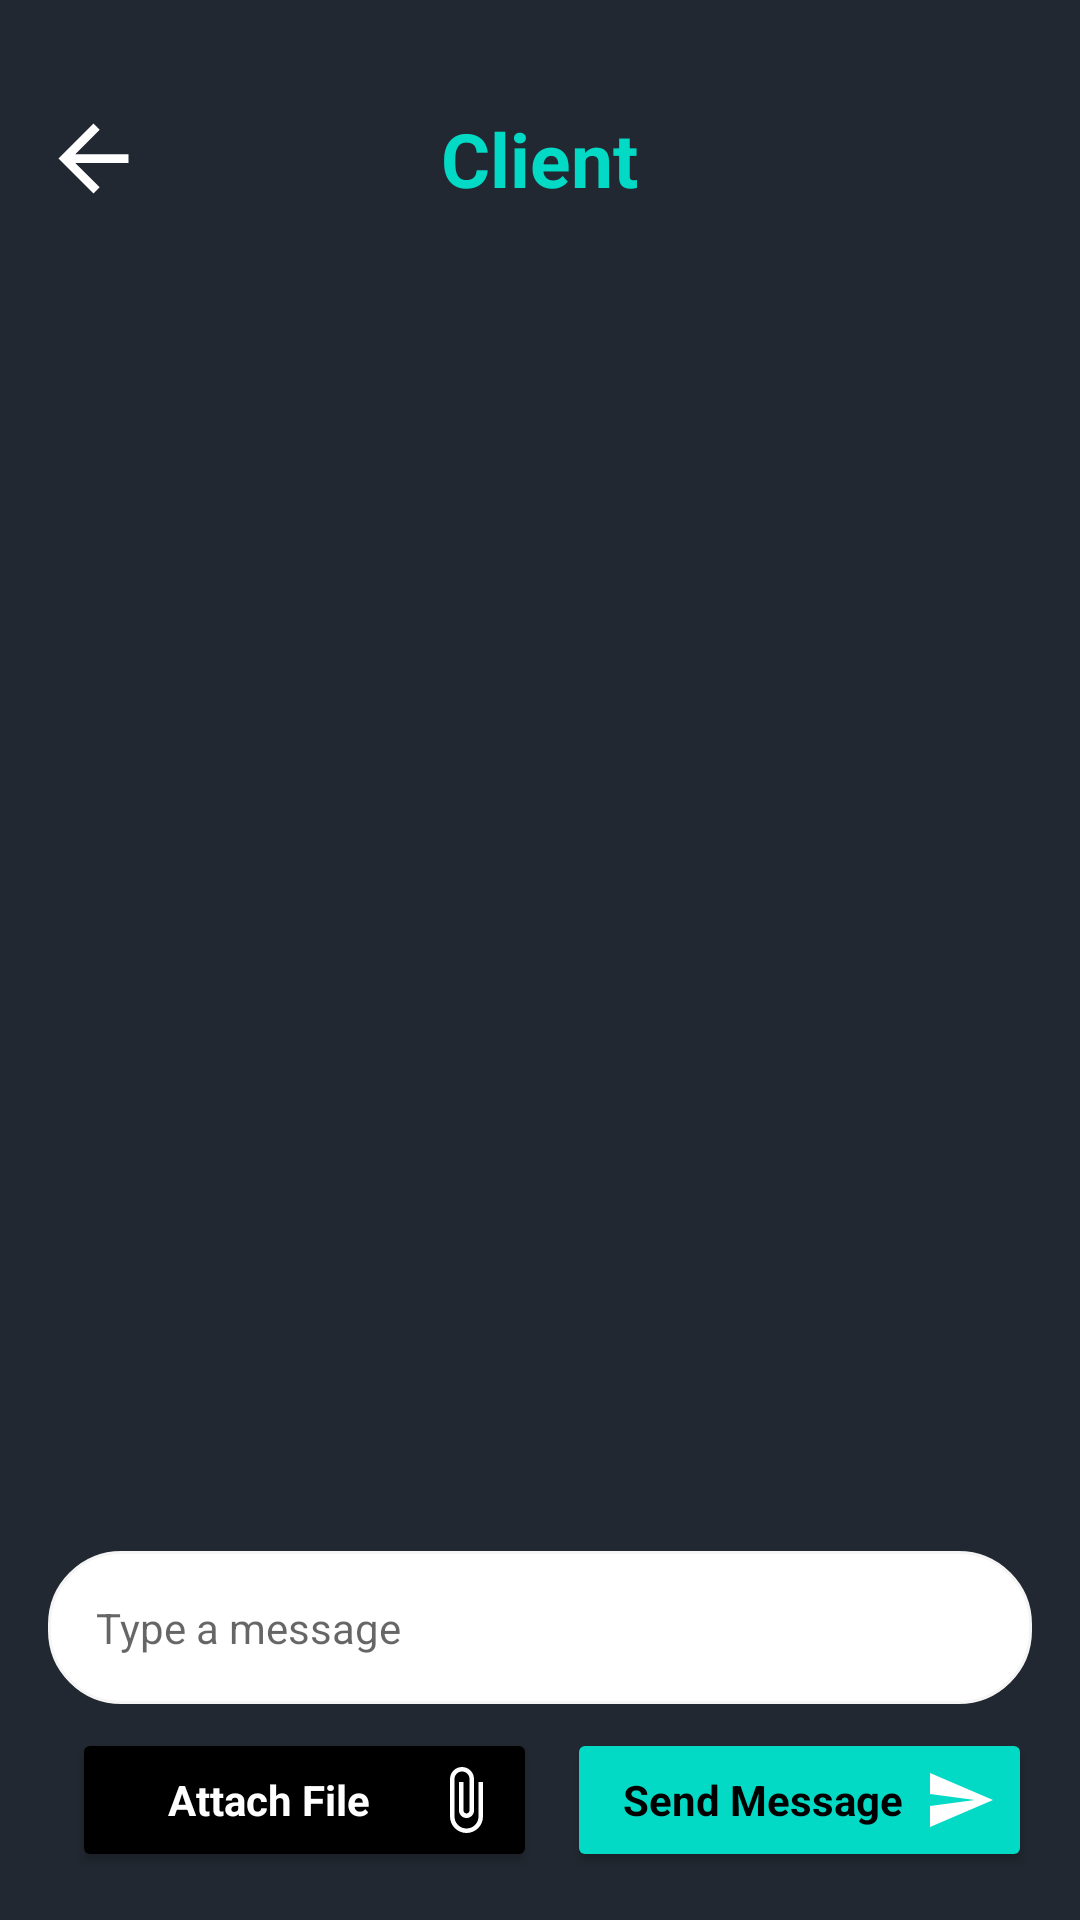

Locate icon controls on the screen. Image size 1080px×1920px, boxes as [x1=x1, y1=y1, x2=x2, y2=y2].
Back Button: [x1=58, y1=123, x2=129, y2=194]
